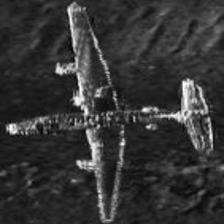plane: (7, 3, 214, 222)
